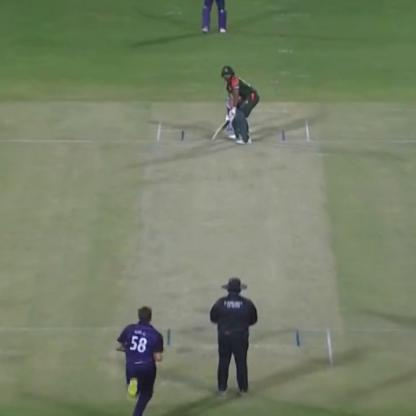bat: (203, 108, 235, 143)
pitch: (138, 123, 326, 378)
